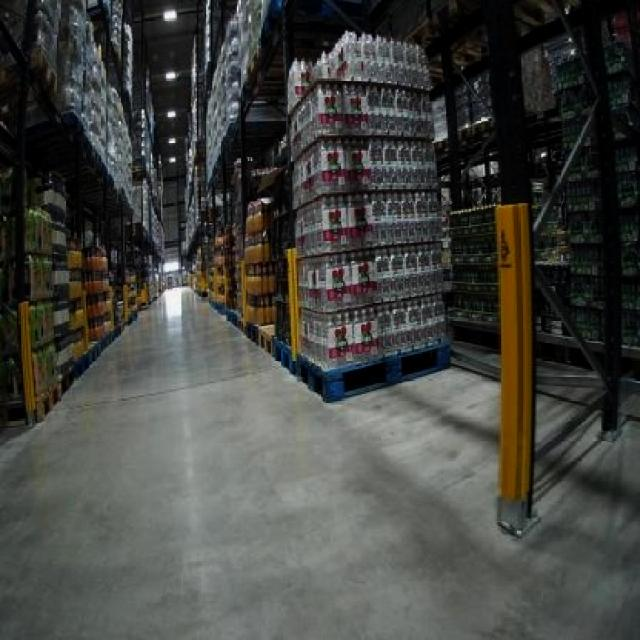floor: (0, 286, 637, 637)
pallets: (286, 31, 446, 397)
